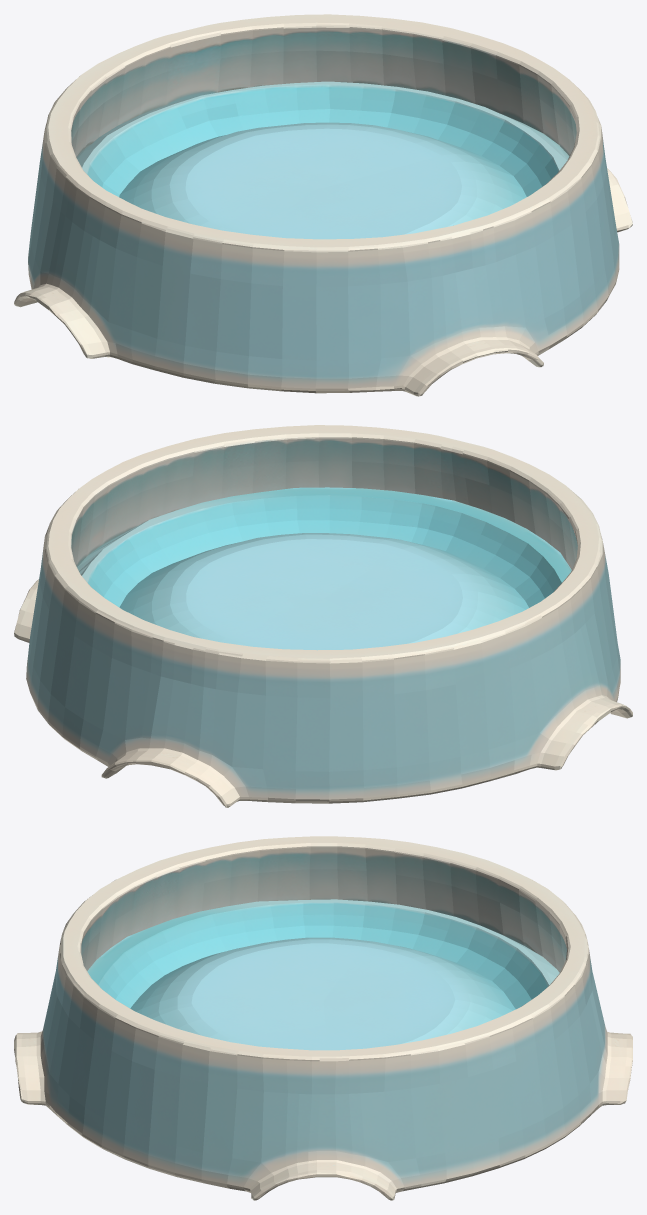
The model's file is Meshy_AI_A_cute_stylized_low_p_0715210324_texture.fbx.
The picture shows the model from 3 angles, top to bottom: view 1: azimuth 30°, elevation 25°; view 2: azimuth 150°, elevation 25°; view 3: azimuth 270°, elevation 25°; orthographic projection. The views are drawn at different scales.
Visible parts, largest first — view 1: temp; view 2: temp; view 3: temp.
Boxes of the visible parts, x1,y1,x2,y2 form: temp: [14, 14, 632, 396]; temp: [14, 425, 632, 807]; temp: [14, 836, 632, 1200].
Size of the model in its own units: 51.5 by 12 by 51.82.
1 material, 1 textured.
